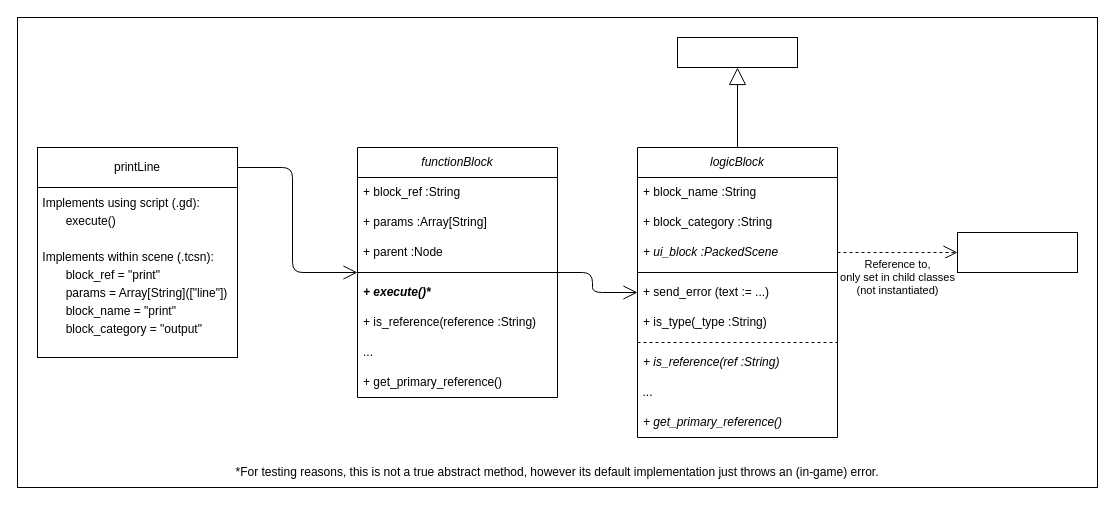
Image size: 1115x505. Some labels were removed from this diagram. The centre of each missing label's shape, as x and y in pixels:
Corrosponding graphicalBlock: [1017,252]
Node: [737,52]
